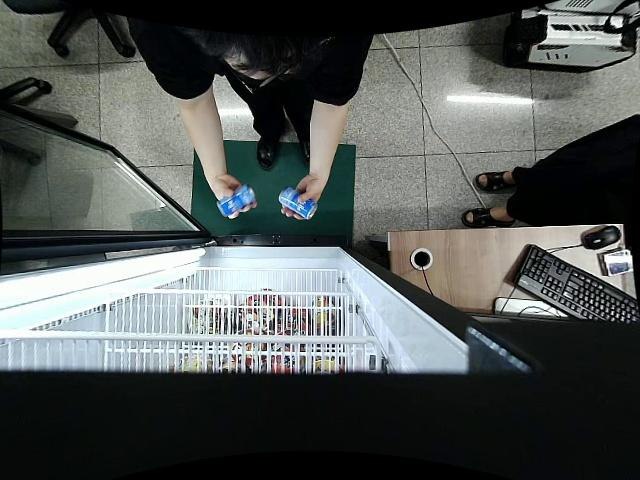00_hand: (212, 175, 257, 221), (281, 179, 324, 220)
15_letsbe: (279, 187, 317, 221), (217, 186, 255, 215)
